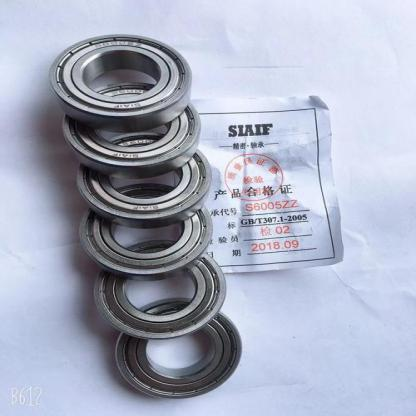FOD: (66, 181, 212, 283), (71, 125, 214, 226), (108, 295, 244, 401), (90, 237, 224, 344), (48, 32, 197, 128), (63, 77, 198, 174)
